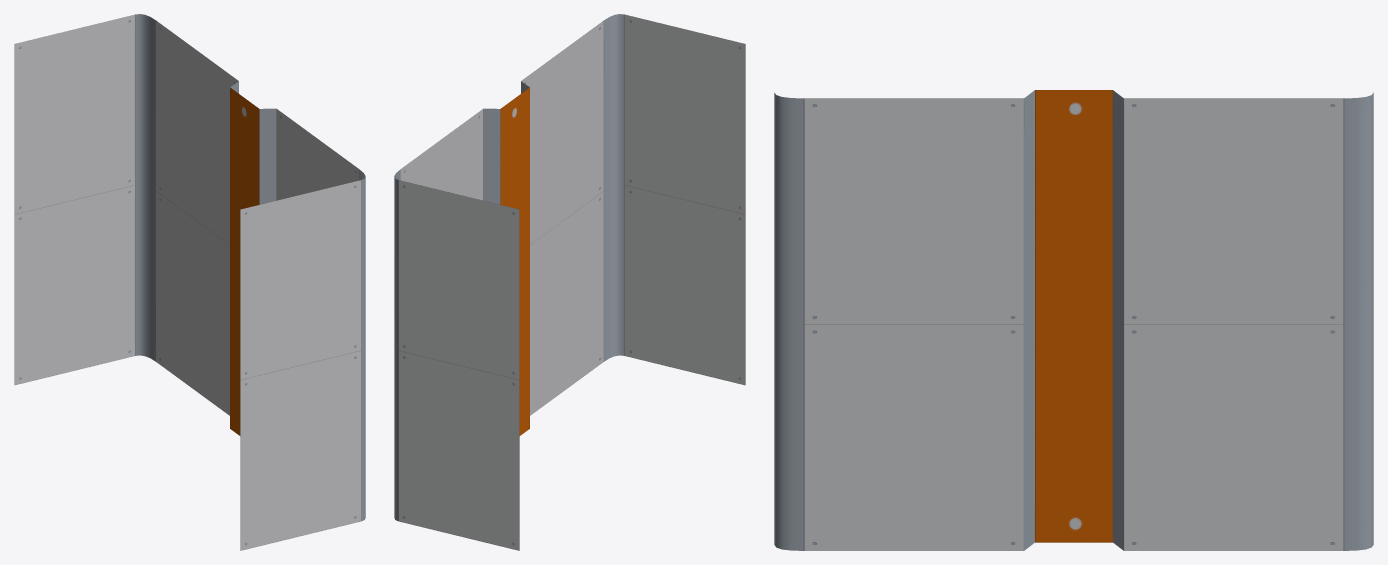
The model's file is Ext_Wall_Addon_02.FBX.
3 views of the same model, side by side, from view 1: azimuth 30°, elevation 25°; view 2: azimuth 150°, elevation 25°; view 3: azimuth 270°, elevation 25° (orthographic). The views are drawn at different scales.
Parts seen in each view (by area): view 1: Ext_Wall_Addon_02; view 2: Ext_Wall_Addon_02; view 3: Ext_Wall_Addon_02.
Part boxes in pixels (bbox=[...]): Ext_Wall_Addon_02: bbox=[14, 14, 365, 550]; Ext_Wall_Addon_02: bbox=[394, 14, 745, 550]; Ext_Wall_Addon_02: bbox=[774, 90, 1373, 550].
Bounding box in the file's own units: 2 × 5 × 6.
